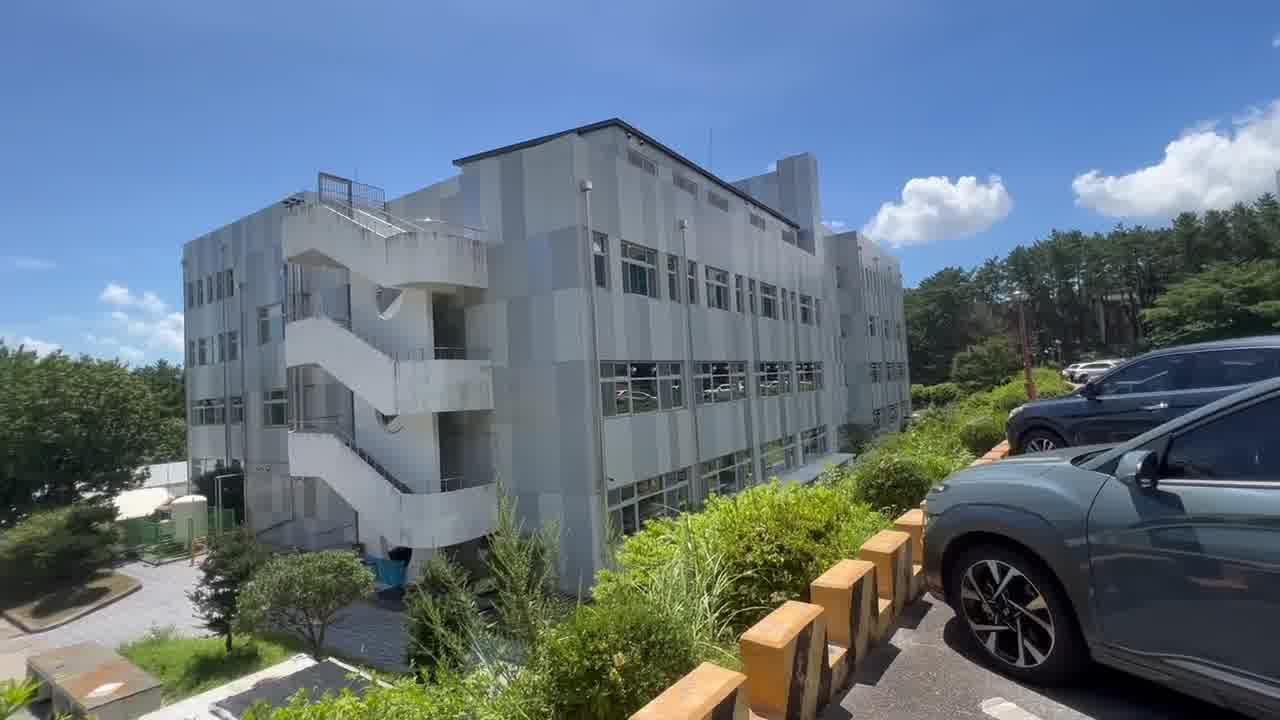building: (158, 94, 914, 467)
